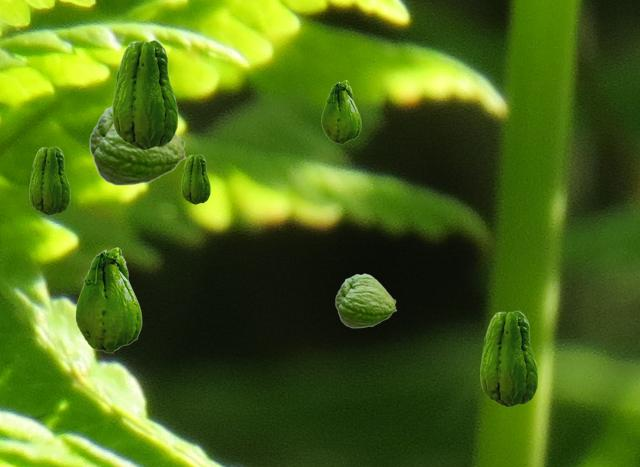sayote: (89, 105, 186, 185), (112, 39, 177, 149), (75, 247, 141, 352), (480, 310, 537, 406), (335, 273, 396, 327), (29, 146, 69, 214), (321, 80, 360, 143), (181, 154, 209, 203)
